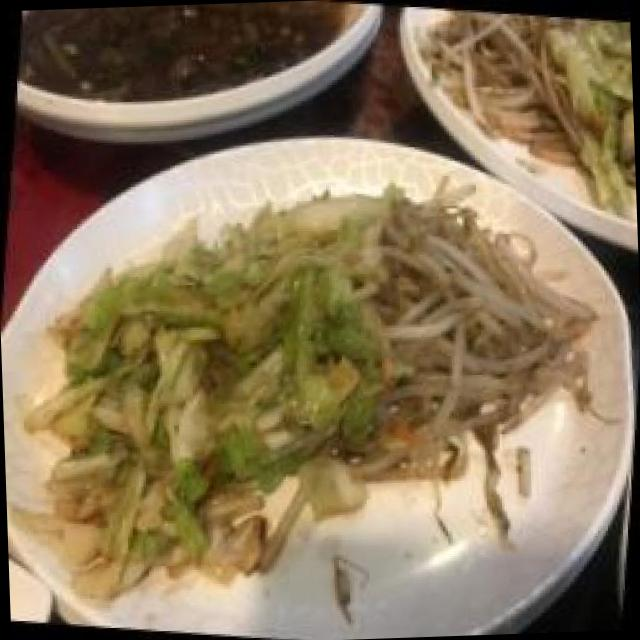chinese_cabbage: (29, 155, 400, 600), (546, 14, 636, 194)
mung_bean_sprouts: (348, 165, 622, 504), (410, 4, 570, 162)
